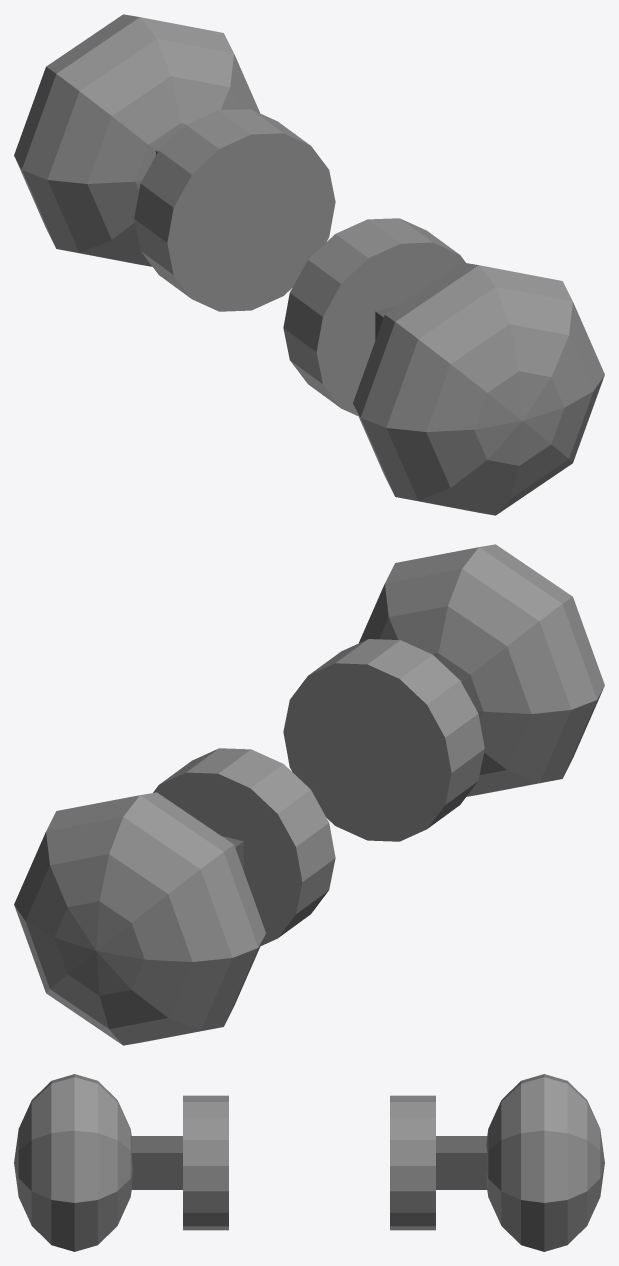
File: DoorHandle2_C2.fbx
3 renders of one model, top to bottom at view 1: azimuth 30°, elevation 25°; view 2: azimuth 150°, elevation 25°; view 3: azimuth 270°, elevation 25°, orthographic. The views are drawn at different scales.
Visible parts, largest first — view 1: DoorHandle2_C2; view 2: DoorHandle2_C2; view 3: DoorHandle2_C2.
Part boxes in pixels (x1,y1,x2,y2): DoorHandle2_C2: (14, 14, 604, 515); DoorHandle2_C2: (14, 544, 604, 1045); DoorHandle2_C2: (14, 1074, 604, 1251).
Bounding box in the file's own units: 8.06 × 8.06 × 25.14.
